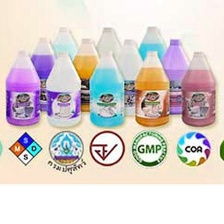cleaning_solution: (109, 36, 150, 118), (154, 36, 195, 117), (2, 47, 43, 127), (88, 48, 128, 129), (132, 50, 172, 128), (44, 49, 83, 129), (84, 24, 126, 98), (179, 50, 218, 128), (131, 26, 170, 99), (68, 36, 104, 114), (44, 24, 83, 96), (24, 35, 60, 113)
